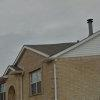Chimney: (77, 12, 99, 38)
